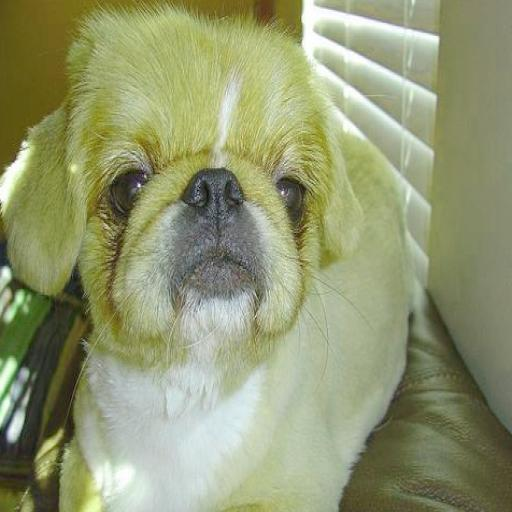dog_face: (17, 16, 366, 375)
